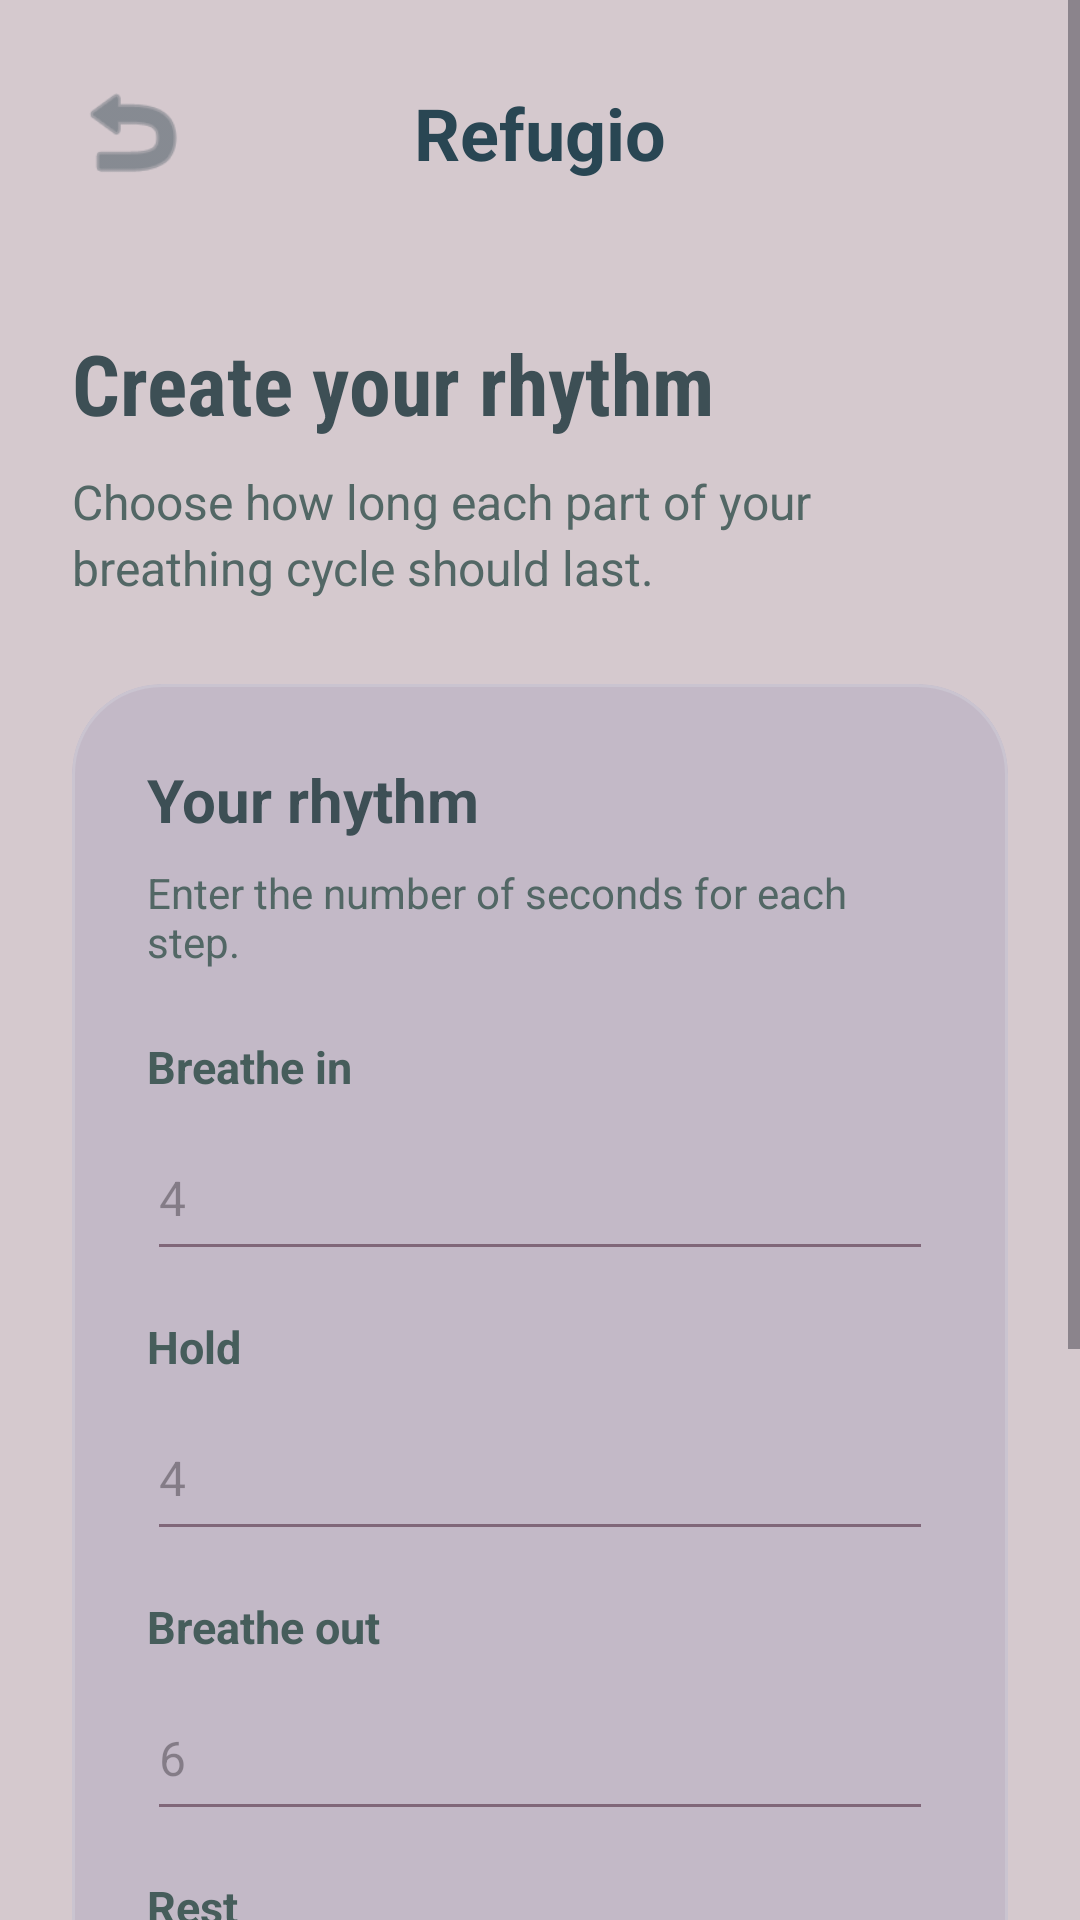

Icons on this 1080px×1920px Android screen, each with its box as [x1, y1, x2, y2]:
Back: [91, 94, 177, 172]
